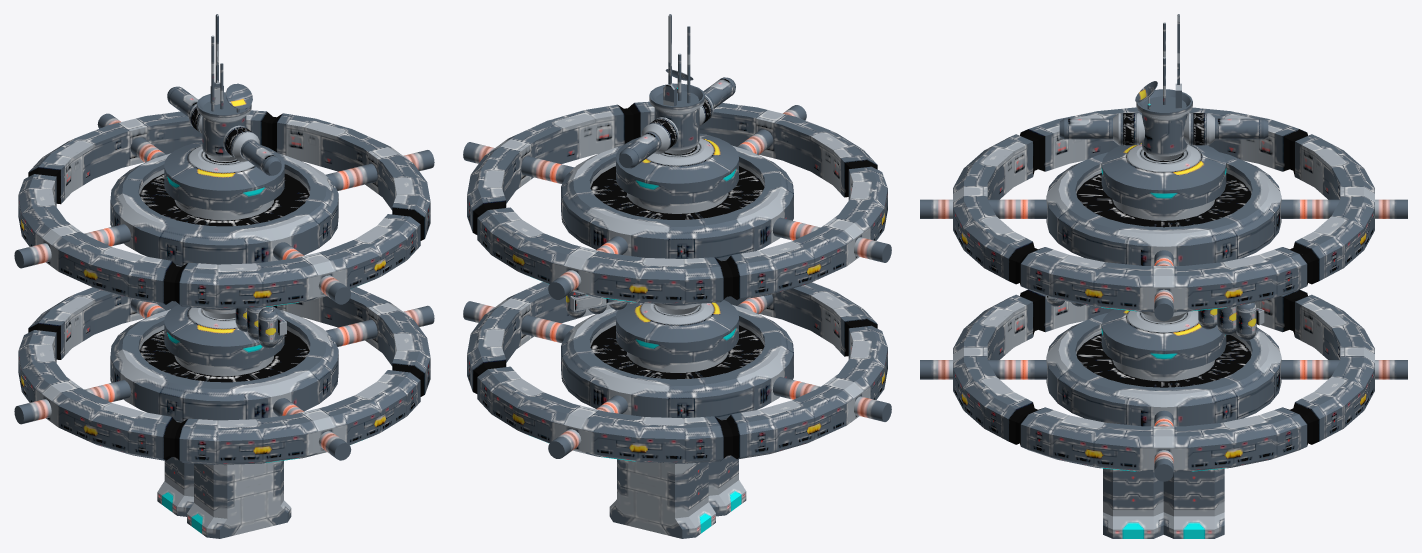
File: StationC2_sm.gltf
3 renders of one model, left to right at view 1: azimuth 30°, elevation 25°; view 2: azimuth 150°, elevation 25°; view 3: azimuth 270°, elevation 25°, orthographic. The views are drawn at different scales.
Parts seen in each view (by area): view 1: SpaceStation6; view 2: SpaceStation6; view 3: SpaceStation6.
Part boxes in pixels (bbox=[...]): SpaceStation6: bbox=[14, 14, 434, 538]; SpaceStation6: bbox=[463, 14, 891, 538]; SpaceStation6: bbox=[920, 14, 1407, 538].
Size of the model in its own units: 88.87 by 101 by 88.87.
1 material, 1 textured.
